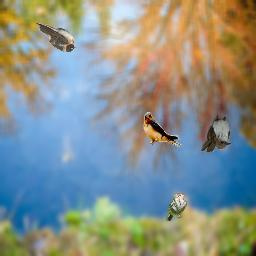Cuckoo: (201, 113, 231, 153)
Sparrow: (166, 193, 187, 221)
Swallow: (143, 112, 183, 149), (36, 23, 76, 52)
